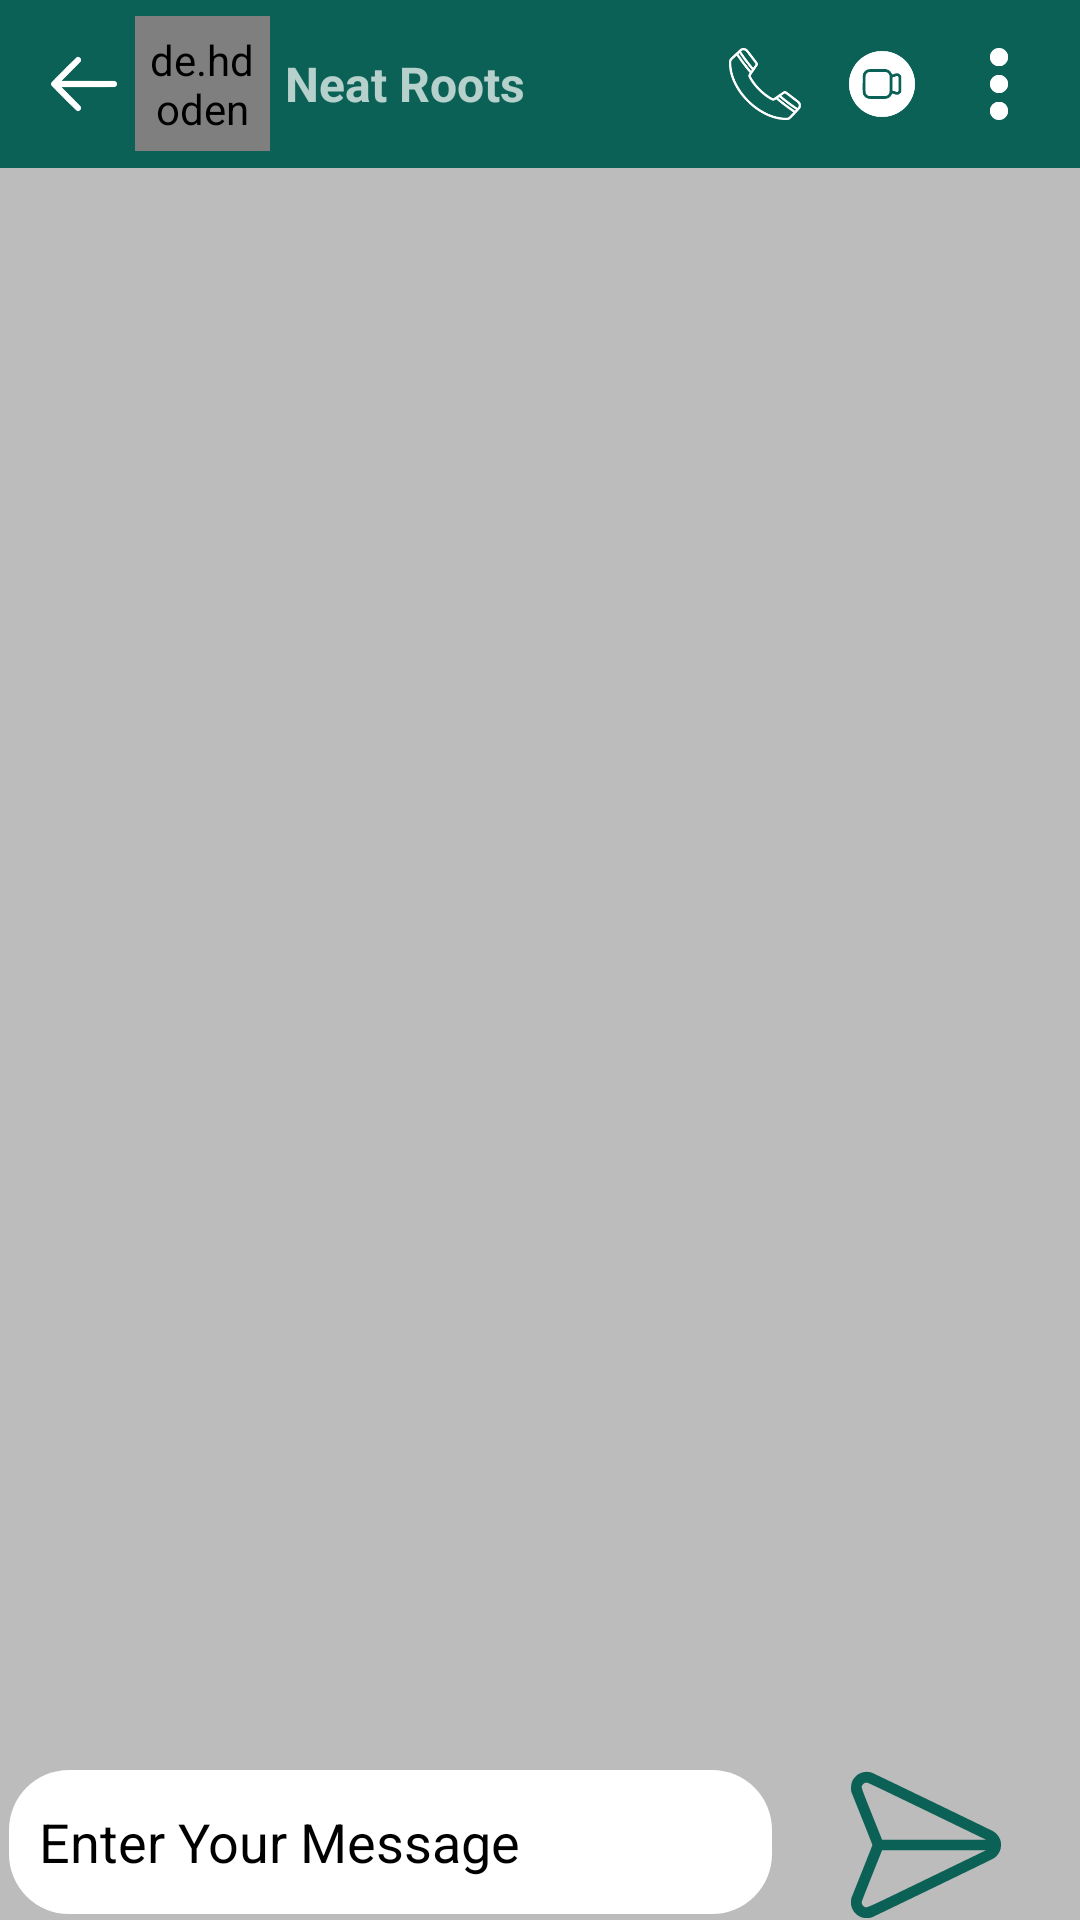

Screen size 1080 × 1920. Icon name, then its box in pixels as bbox(x1, y1, x2, y2):
back arrow: bbox(51, 57, 117, 111)
ellipsis: bbox(990, 48, 1008, 120)
send: bbox(851, 1771, 1001, 1918)
telephone: bbox(729, 48, 801, 120)
videocall: bbox(849, 51, 915, 117)
